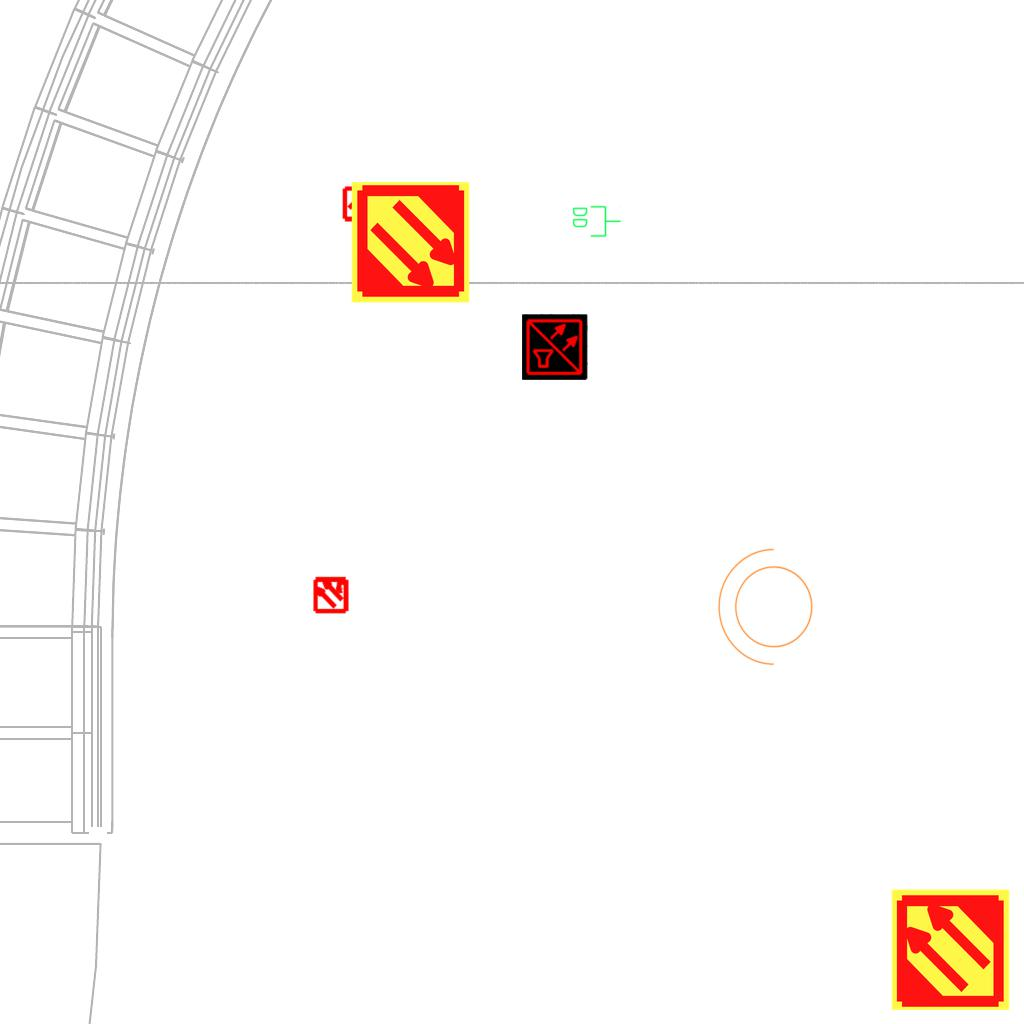ASR_Ansaugrauchmelder: (888, 887, 1013, 1012), (348, 180, 473, 305)
Datenanschluss_zweifach: (571, 204, 622, 238)
OKW_Multisensormelder_(Kombination_optischer_Rauch-Kahlenmonoxid_Waerme-Melder): (522, 314, 588, 380)
OT_Multisensormelder_(Kombination_RMO_WMD): (334, 176, 390, 232), (303, 566, 359, 622)
Scheinwerfer_fuer_Alarmbeleuchtung: (713, 544, 825, 676)
